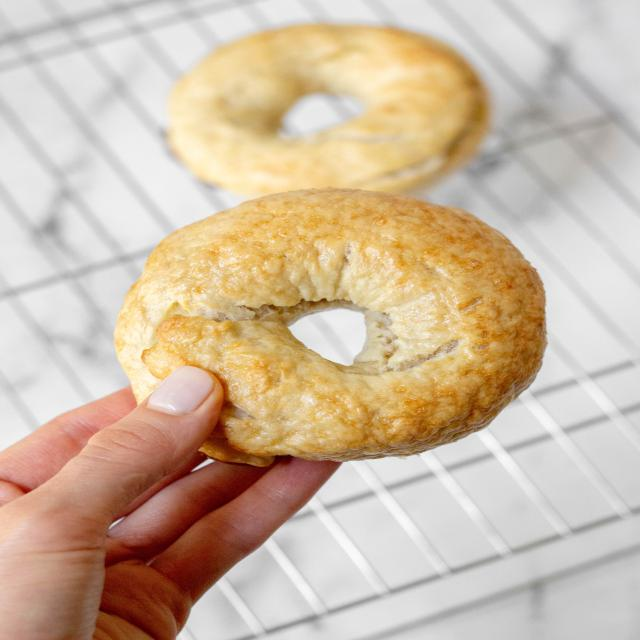Bagel: (114, 189, 546, 465), (167, 24, 489, 198)
